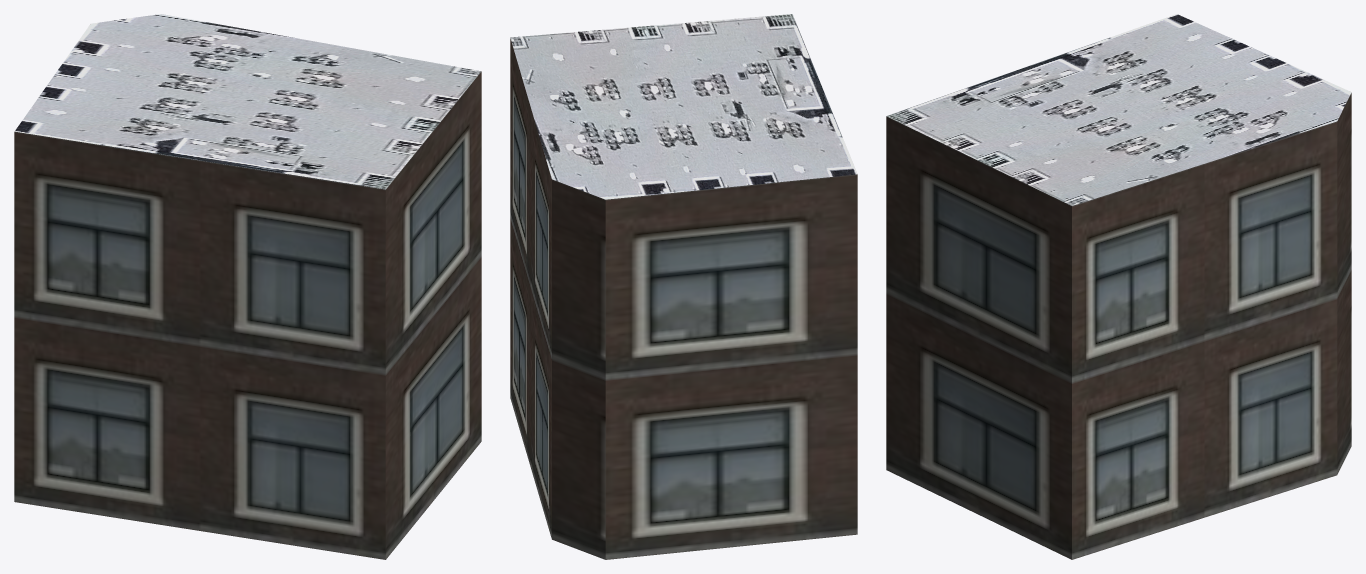
Rendered from ResTex__2718.fbx.
3 views of the same model, side by side, from view 1: azimuth 30°, elevation 25°; view 2: azimuth 150°, elevation 25°; view 3: azimuth 270°, elevation 25° (orthographic). The views are drawn at different scales.
Parts seen in each view (by area): view 1: CityEngineMaterial_16_m, CityEngineMaterial_15_m; view 2: CityEngineMaterial_16_m, CityEngineMaterial_15_m; view 3: CityEngineMaterial_16_m, CityEngineMaterial_15_m.
Boxes of the visible parts, box(x1,y1,x2,y2) form: CityEngineMaterial_16_m: box(14, 71, 481, 559); CityEngineMaterial_15_m: box(14, 14, 480, 189); CityEngineMaterial_16_m: box(510, 38, 857, 559); CityEngineMaterial_15_m: box(510, 14, 857, 199); CityEngineMaterial_16_m: box(886, 93, 1351, 559); CityEngineMaterial_15_m: box(886, 14, 1351, 205).
Bounding box in the file's own units: 6.99 × 6 × 7.16.
2 materials, 2 textured.
